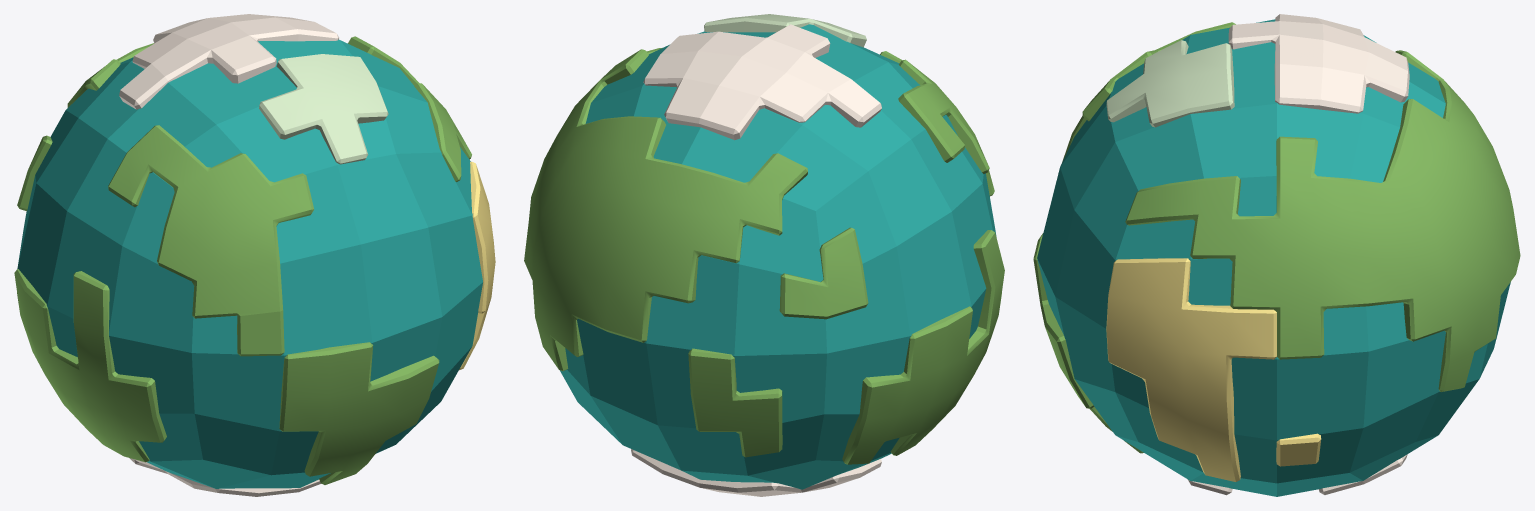
Rendered from Earth.fbx.
The picture shows the model from 3 angles, left to right: view 1: azimuth 30°, elevation 25°; view 2: azimuth 150°, elevation 25°; view 3: azimuth 270°, elevation 25°; orthographic projection.
Parts seen in each view (by area): view 1: Cube.012; view 2: Cube.012; view 3: Cube.012.
Boxes of the visible parts, x1,y1,x2,y2 form: Cube.012: [14, 14, 495, 496]; Cube.012: [524, 14, 1004, 496]; Cube.012: [1033, 14, 1520, 496].
Size of the model in its own units: 121 by 121 by 121.
Materials: 1 (1 with a texture image).
